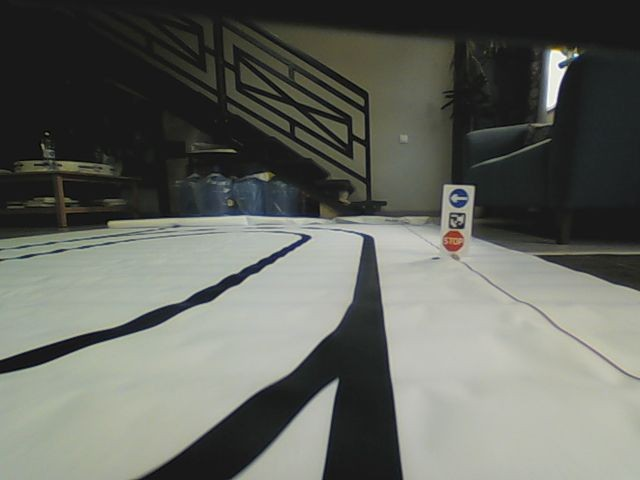Stop: (442, 230, 465, 251)
